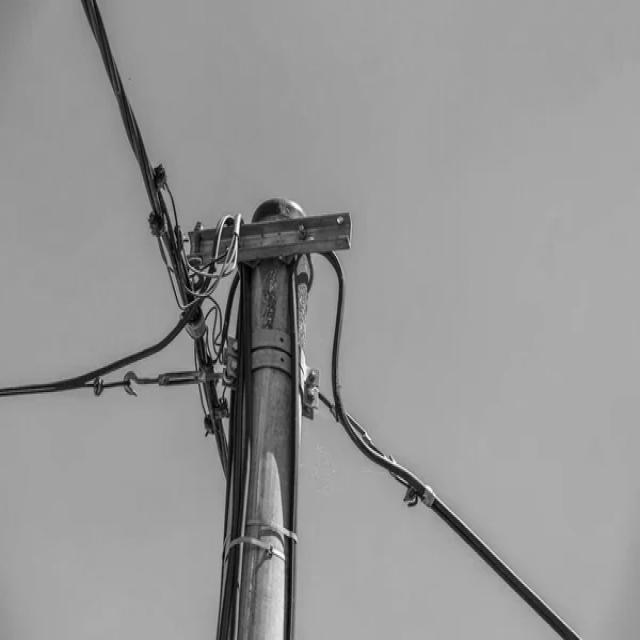Pole: (218, 192, 310, 640)
